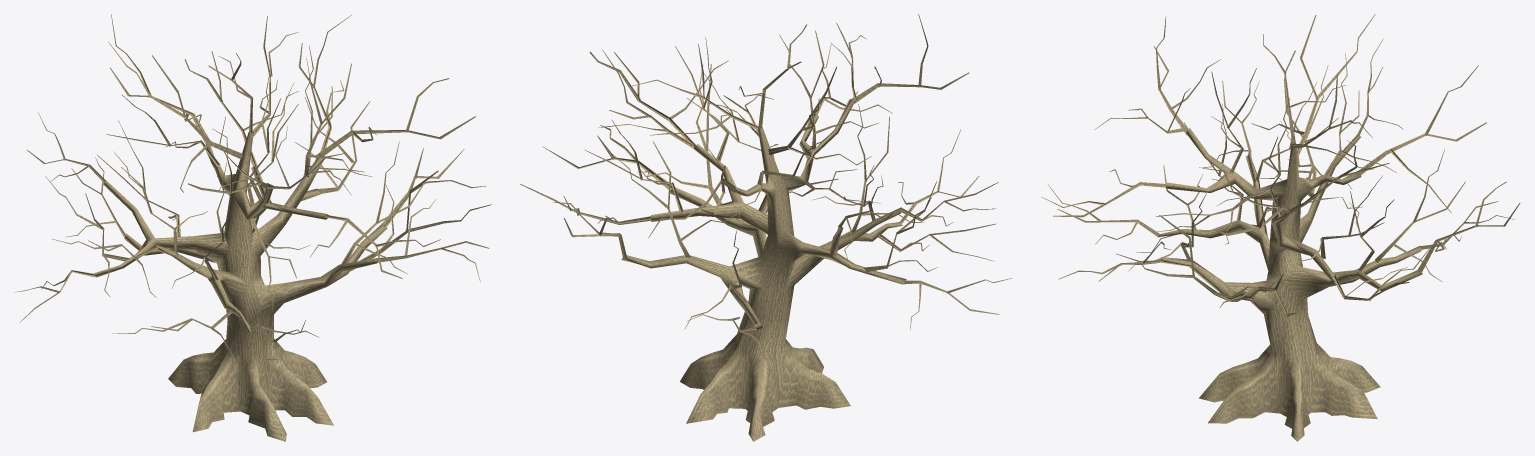
File: INST_HTOWN_TREEC_LOD1.fbx
3 renders of one model, left to right at view 1: azimuth 30°, elevation 25°; view 2: azimuth 150°, elevation 25°; view 3: azimuth 270°, elevation 25°, orthographic. The views are drawn at different scales.
Visible parts, largest first — view 1: INST_HTOWN_TREEC_LOD1; view 2: INST_HTOWN_TREEC_LOD1; view 3: INST_HTOWN_TREEC_LOD1.
Part boxes in pixels (x1,y1,x2,y2): INST_HTOWN_TREEC_LOD1: [15, 14, 491, 441]; INST_HTOWN_TREEC_LOD1: [520, 14, 1012, 441]; INST_HTOWN_TREEC_LOD1: [1041, 14, 1520, 441].
Size of the model in its own units: 118247 by 90744 by 110502.
Materials: 6 (6 with a texture image).
